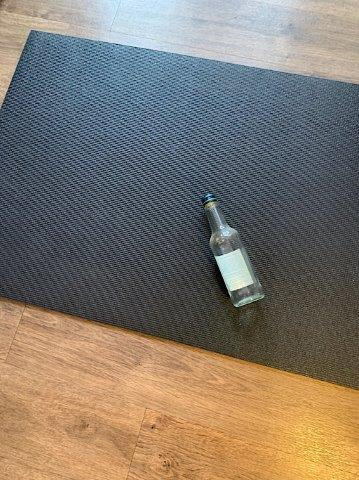botolkaca: (202, 193, 266, 307)
